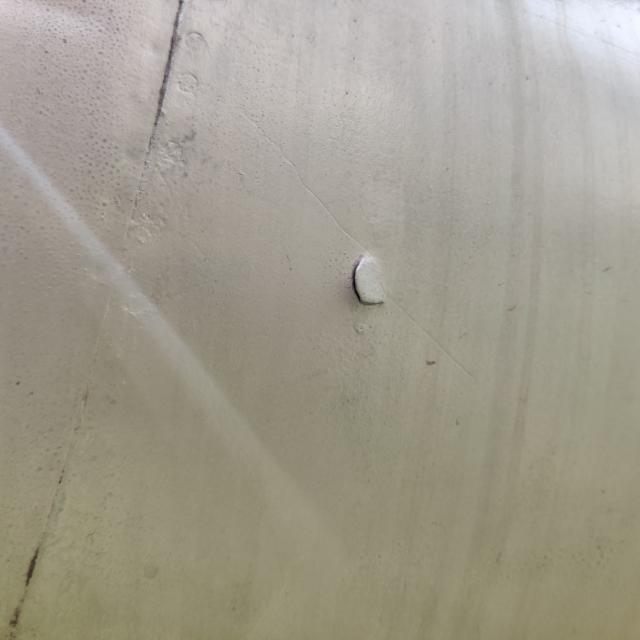crack: (322, 239, 418, 328)
